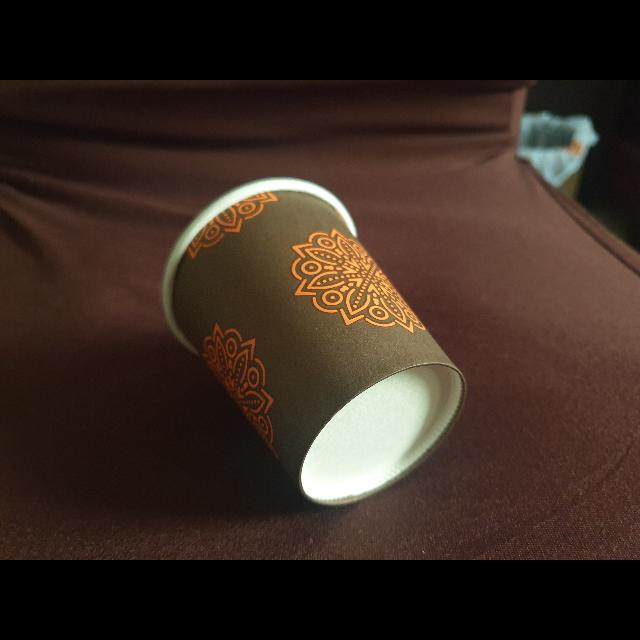trash: (154, 171, 472, 515)
